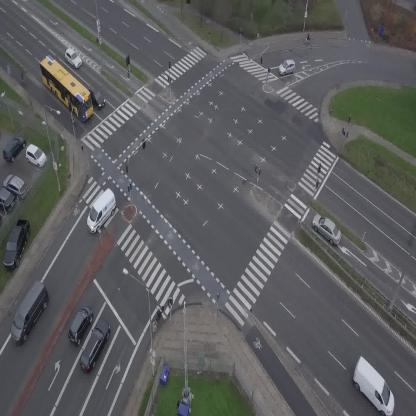bicycle: (154, 304, 165, 323), (18, 70, 28, 86), (303, 32, 312, 43)
bus: (31, 52, 102, 123)
car: (75, 316, 116, 375), (63, 302, 98, 347), (306, 211, 347, 248), (84, 83, 108, 111), (61, 47, 84, 70), (277, 58, 298, 77)
lorry: (341, 355, 406, 416), (2, 279, 57, 347), (79, 187, 125, 236)
